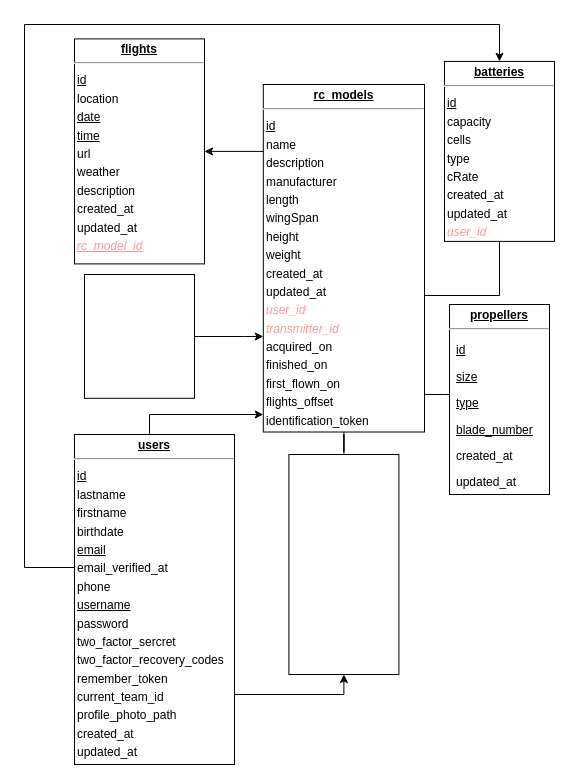
Image size: 572x782. Some labels were removed from this diagram. The box of each missing label's shape, as (x1, y1, x2, y2) in pixels:
engines id name power type weight frequency created_at updated_at user_id fuel: (288, 454, 399, 674)
transmitters id name manufacturer created_at updated_at: (84, 274, 194, 398)
